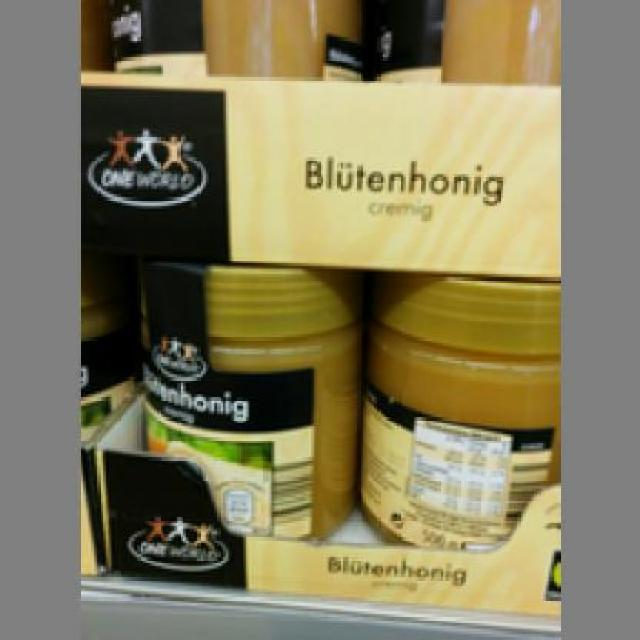Honey: (137, 257, 357, 537), (363, 268, 557, 552)
